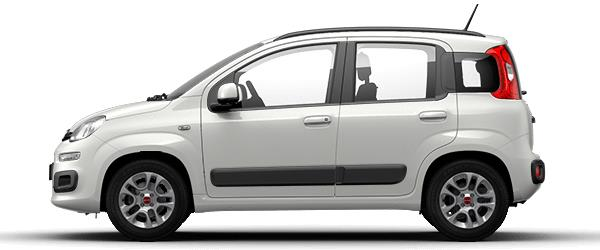araba: (48, 25, 546, 238)
